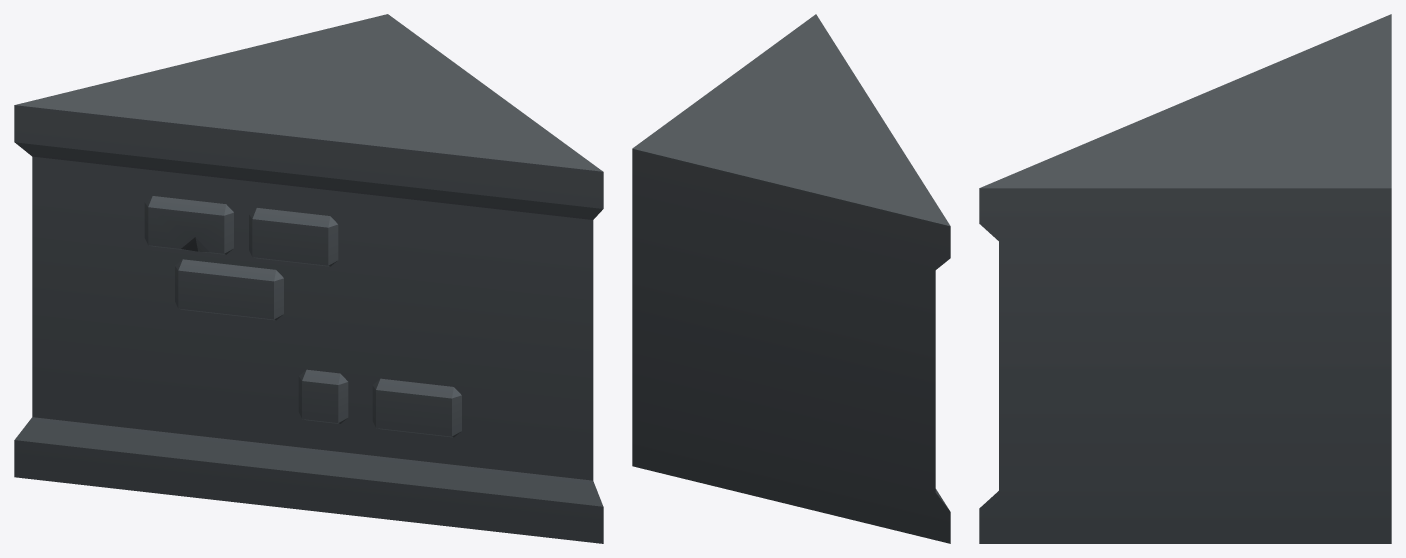
Rendered from floor_foundation_diagonal_corner.glb.
The picture shows the model from 3 angles, left to right: view 1: azimuth 30°, elevation 25°; view 2: azimuth 150°, elevation 25°; view 3: azimuth 270°, elevation 25°; orthographic projection. The views are drawn at different scales.
Parts seen in each view (by area): view 1: floor_foundation_diagonal_corner; view 2: floor_foundation_diagonal_corner; view 3: floor_foundation_diagonal_corner.
Boxes of the visible parts, left/top/right/bottom form: floor_foundation_diagonal_corner: left=14, top=14, right=603, bottom=543; floor_foundation_diagonal_corner: left=632, top=14, right=950, bottom=543; floor_foundation_diagonal_corner: left=979, top=14, right=1391, bottom=543.
Size of the model in its own units: 2.1 by 2 by 2.1.
Materials: 1 (1 with a texture image).
